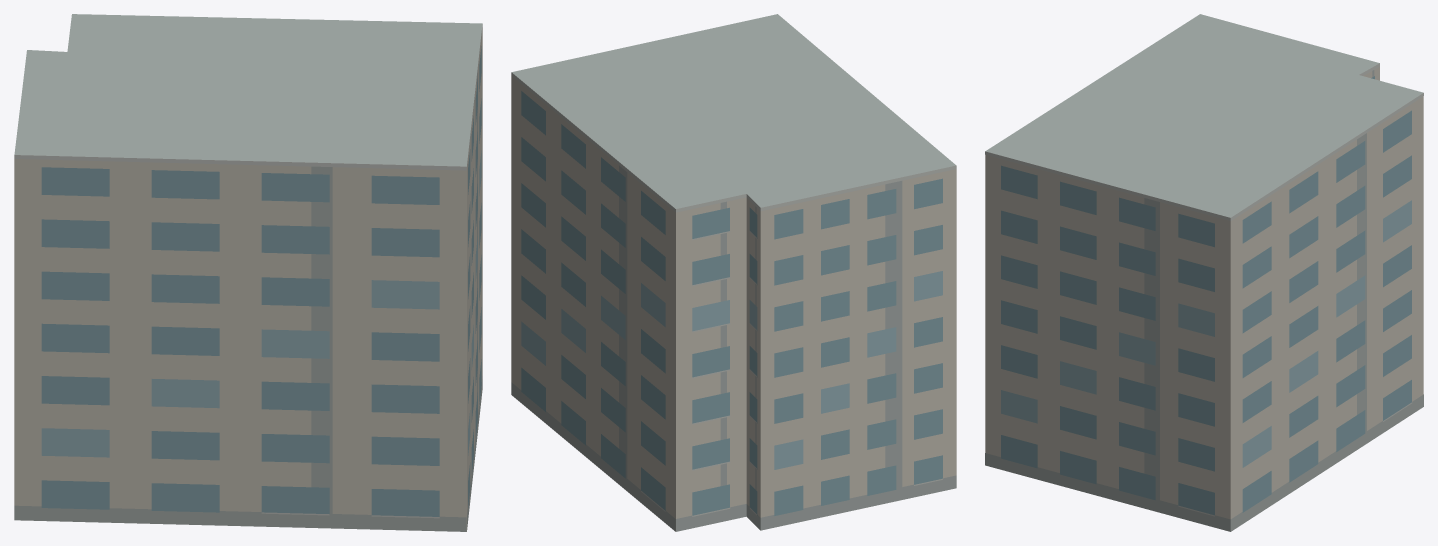
Rendered from survey-upis-32618099.glb.
3 renders of one model, left to right at view 1: azimuth 30°, elevation 25°; view 2: azimuth 150°, elevation 25°; view 3: azimuth 270°, elevation 25°, orthographic. The views are drawn at different scales.
Visible parts, largest first — view 1: survey-upis-32618099.tmp; view 2: survey-upis-32618099.tmp; view 3: survey-upis-32618099.tmp.
Part boxes in pixels (x1=…): survey-upis-32618099.tmp: x1=14, y1=14, x2=482, y2=531; survey-upis-32618099.tmp: x1=511, y1=14, x2=956, y2=531; survey-upis-32618099.tmp: x1=985, y1=14, x2=1423, y2=531.
Size of the model in its own units: 31.51 by 22.63 by 28.66.
